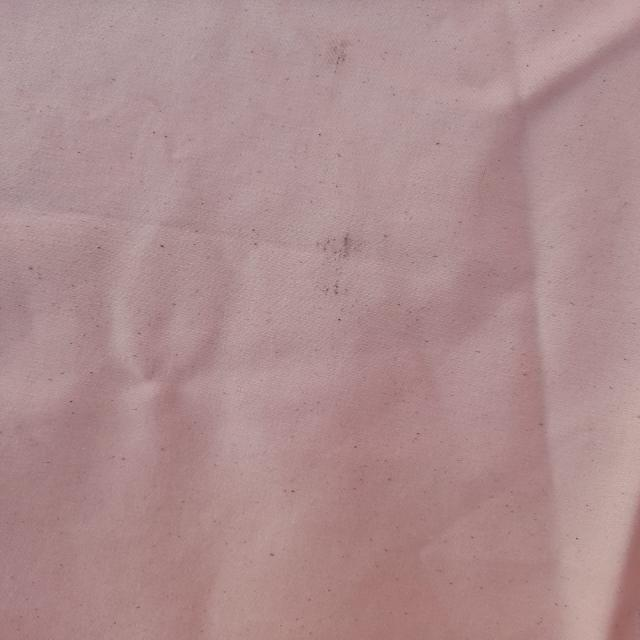taaaches: (298, 217, 389, 325), (316, 30, 386, 87)
